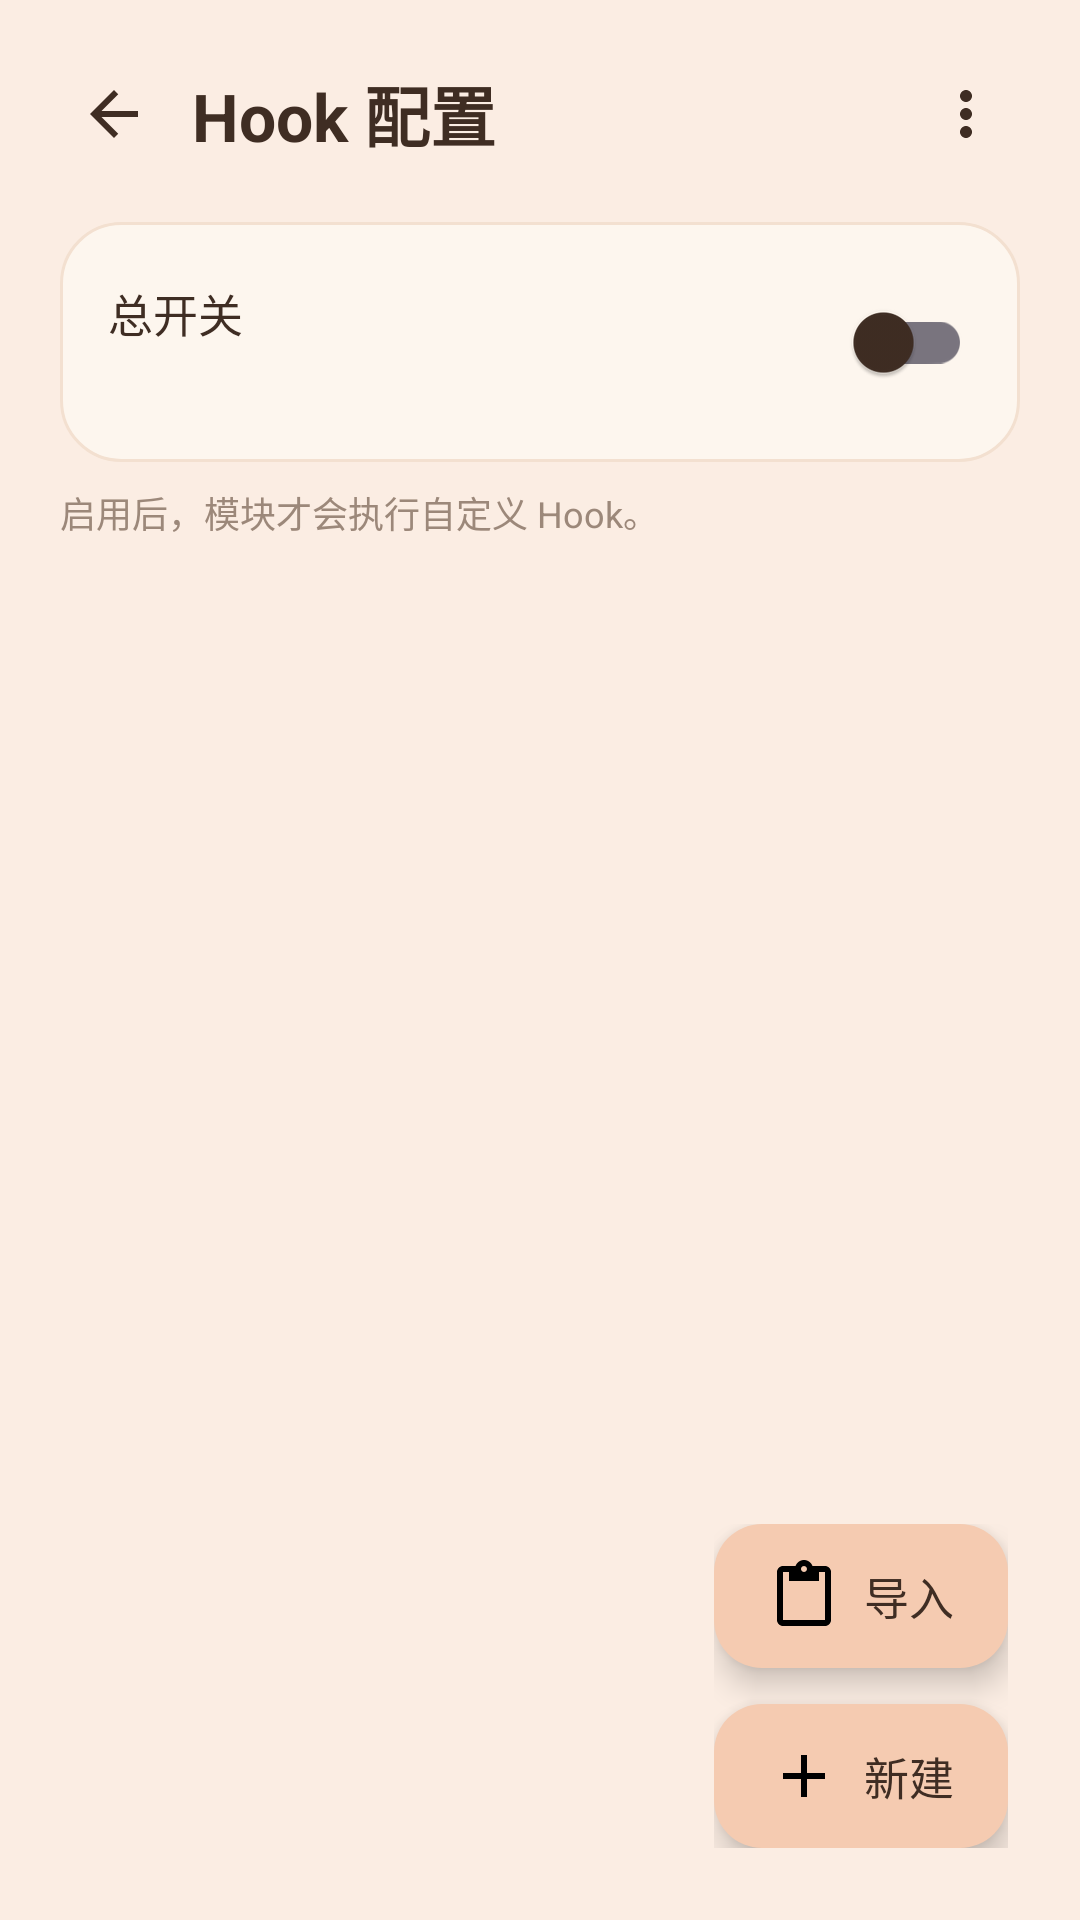

Icon click points for this 1080 x 1920 phone screenshot, format (x=x, y=y):
back: (x=114, y=114)
more: (x=966, y=114)
